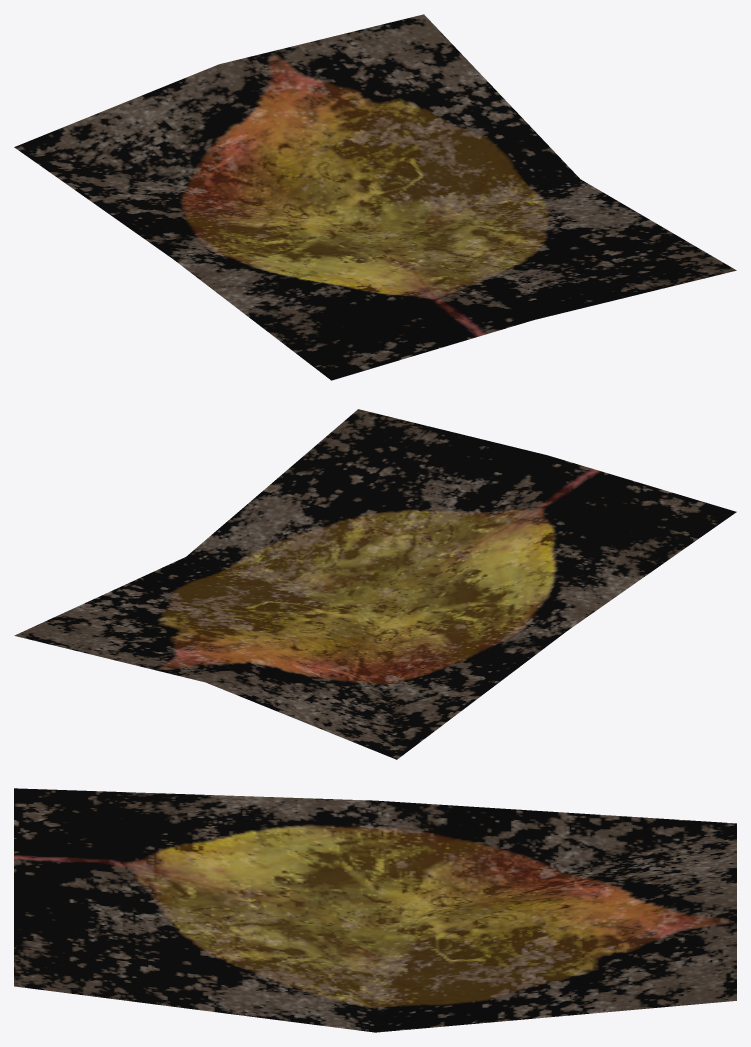
The model's file is SM_Leaf05.FBX.
3 views of the same model, one above another, from view 1: azimuth 30°, elevation 25°; view 2: azimuth 150°, elevation 25°; view 3: azimuth 270°, elevation 25° (orthographic). The views are drawn at different scales.
Parts seen in each view (by area): view 1: SM_Leaves005; view 2: SM_Leaves005; view 3: SM_Leaves005.
Part boxes in pixels (box(x1,y1,x2,y2)): SM_Leaves005: box(14, 14, 736, 380); SM_Leaves005: box(14, 409, 736, 759); SM_Leaves005: box(14, 788, 736, 1032).
Bounding box in the file's own units: 6.89 × 0.5589 × 9.39.
